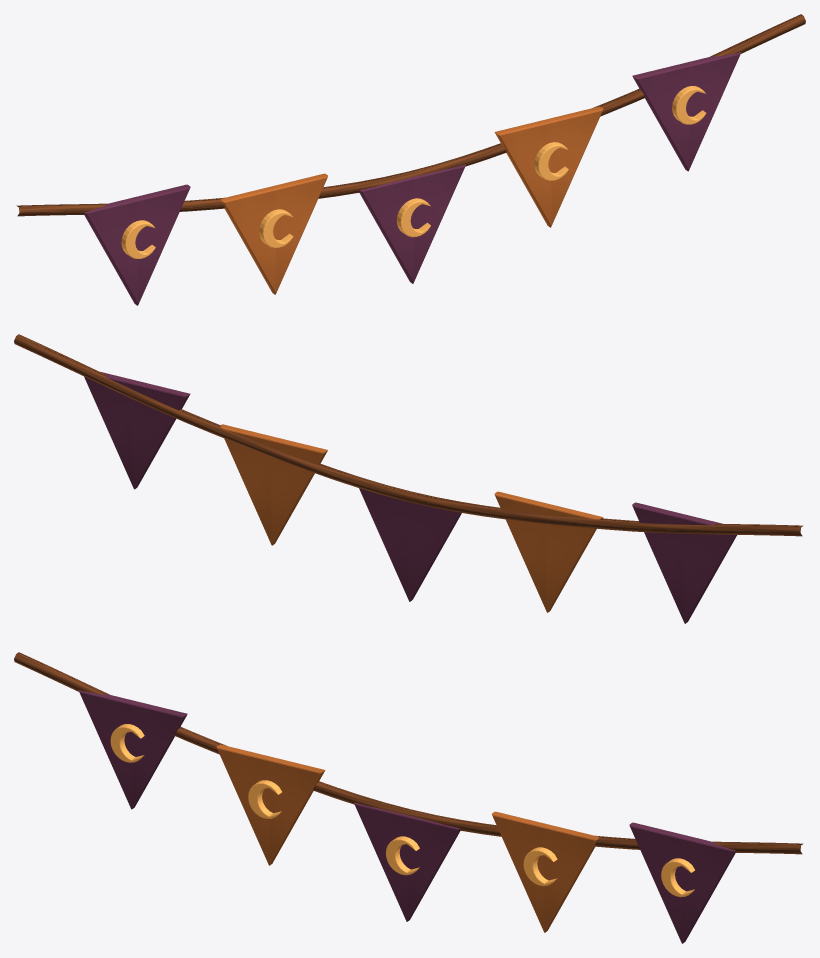
Rendered from hollowwick-halloween-halloween-pennant-garland-b4c1d1c8__21647.glb.
3 views of the same model, one above another, from view 1: azimuth 30°, elevation 25°; view 2: azimuth 150°, elevation 25°; view 3: azimuth 330°, elevation 25° (orthographic).
Visible parts, largest first — view 1: halloween-pennant-garland; view 2: halloween-pennant-garland; view 3: halloween-pennant-garland.
Part boxes in pixels (box(x1,y1,x2,y2)): halloween-pennant-garland: box(16, 14, 805, 305); halloween-pennant-garland: box(14, 334, 803, 623); halloween-pennant-garland: box(14, 652, 803, 943).
Size of the model in its own units: 2 by 0.4158 by 0.046.
4 materials, 3 textured.
